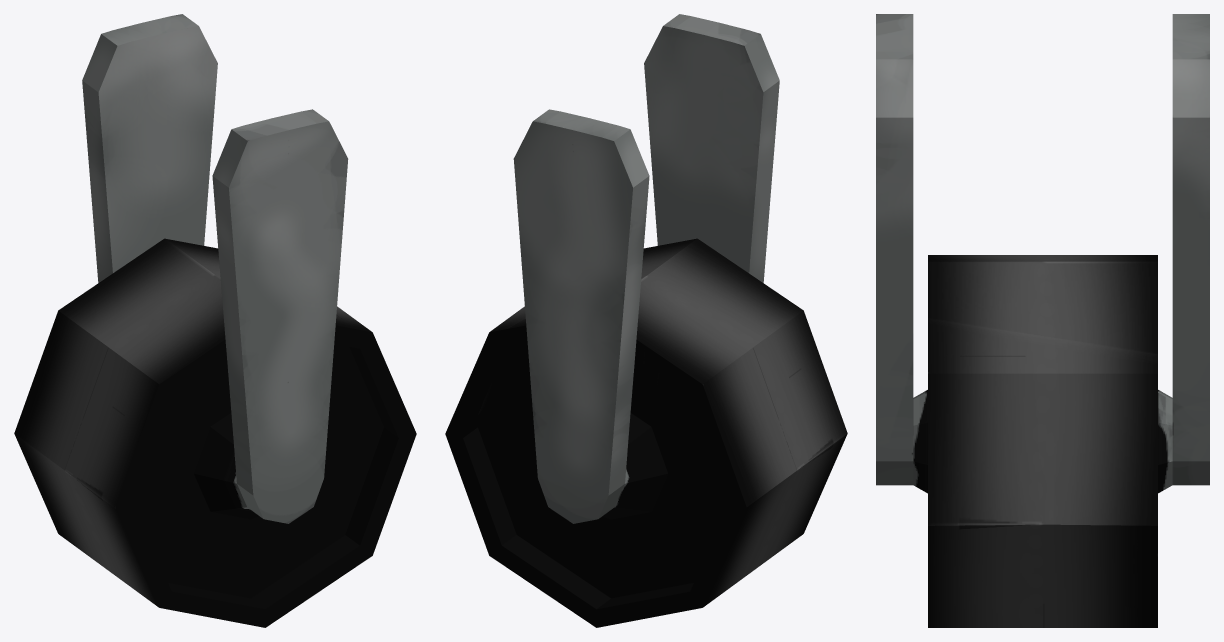
File: Wheel-1.fbx
The picture shows the model from 3 angles, left to right: view 1: azimuth 30°, elevation 25°; view 2: azimuth 150°, elevation 25°; view 3: azimuth 270°, elevation 25°; orthographic projection. The views are drawn at different scales.
Visible parts, largest first — view 1: Cube; view 2: Cube; view 3: Cube.
Boxes of the visible parts, x1,y1,x2,y2 form: Cube: (14, 14, 416, 627); Cube: (445, 14, 847, 627); Cube: (876, 14, 1209, 627).
Bounding box in the file's own units: 136 × 222 × 115.
1 material, 1 textured.
